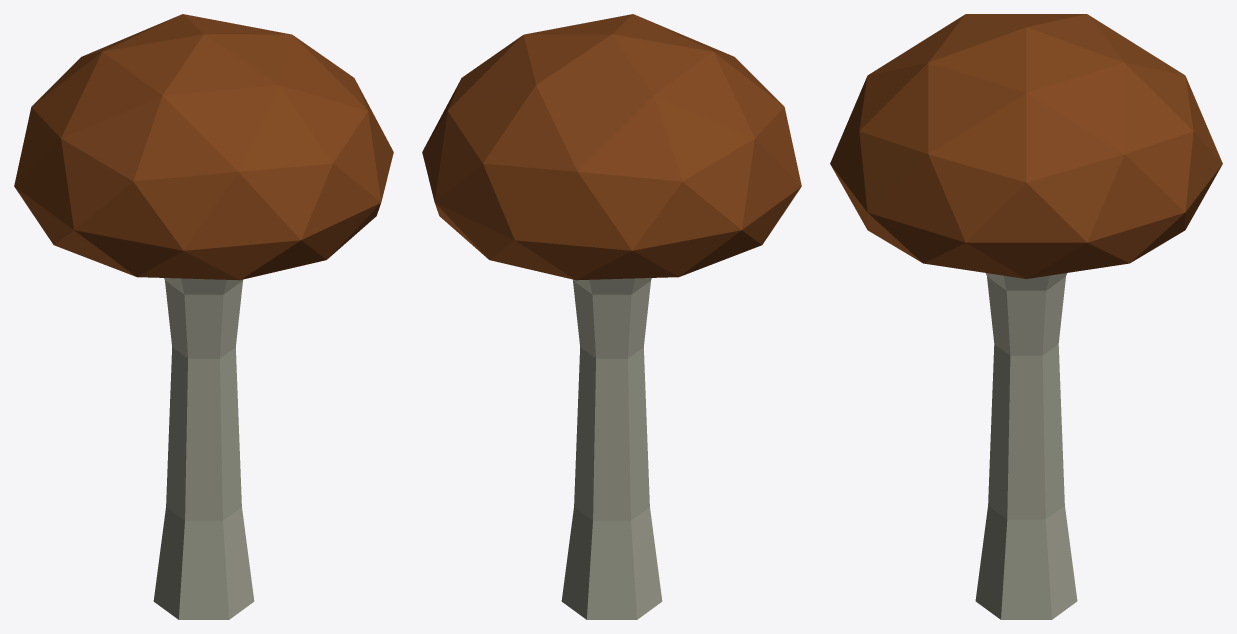
The model's file is NHP_Mushroom_A1_01.fbx.
3 views of the same model, side by side, from view 1: azimuth 30°, elevation 25°; view 2: azimuth 150°, elevation 25°; view 3: azimuth 270°, elevation 25° (orthographic).
Parts seen in each view (by area): view 1: NHP_Mushroom_A1_01_LOD0; view 2: NHP_Mushroom_A1_01_LOD0; view 3: NHP_Mushroom_A1_01_LOD0.
Boxes of the visible parts, x1,y1,x2,y2 form: NHP_Mushroom_A1_01_LOD0: (14,14,393,619); NHP_Mushroom_A1_01_LOD0: (422,14,801,619); NHP_Mushroom_A1_01_LOD0: (830,14,1222,619).
Size of what is drawn, in the model's own units: 0.2308 by 0.3913 by 0.2427.
